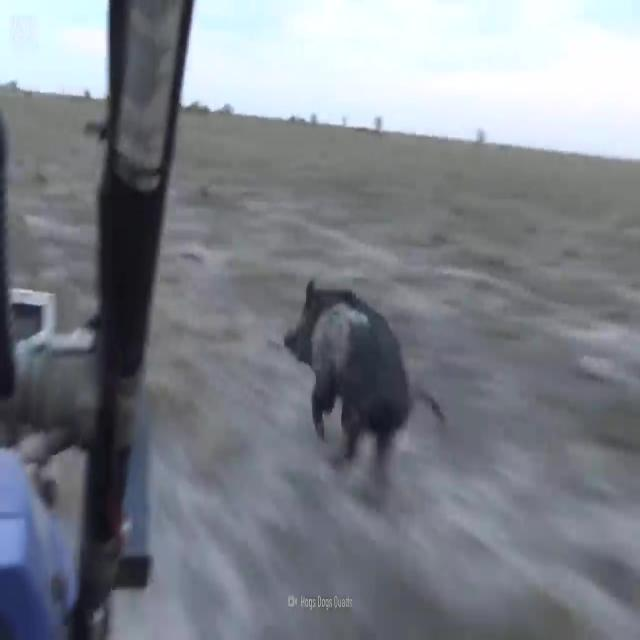pig: (248, 250, 440, 482)
